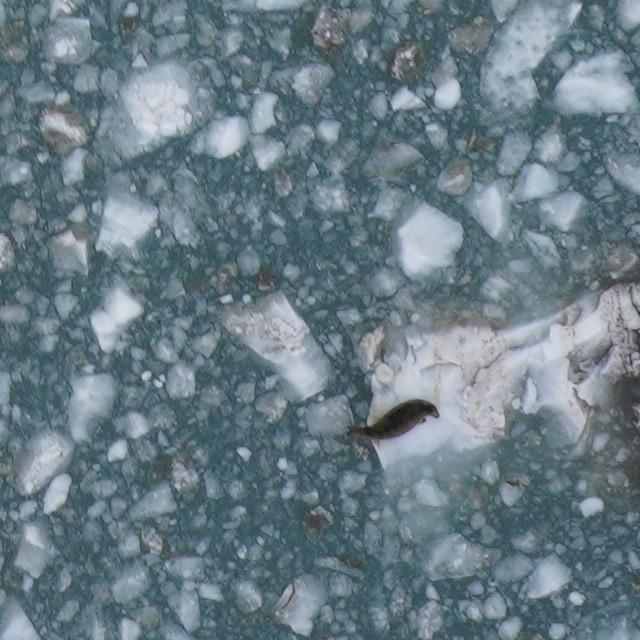seal: (344, 396, 443, 444)
